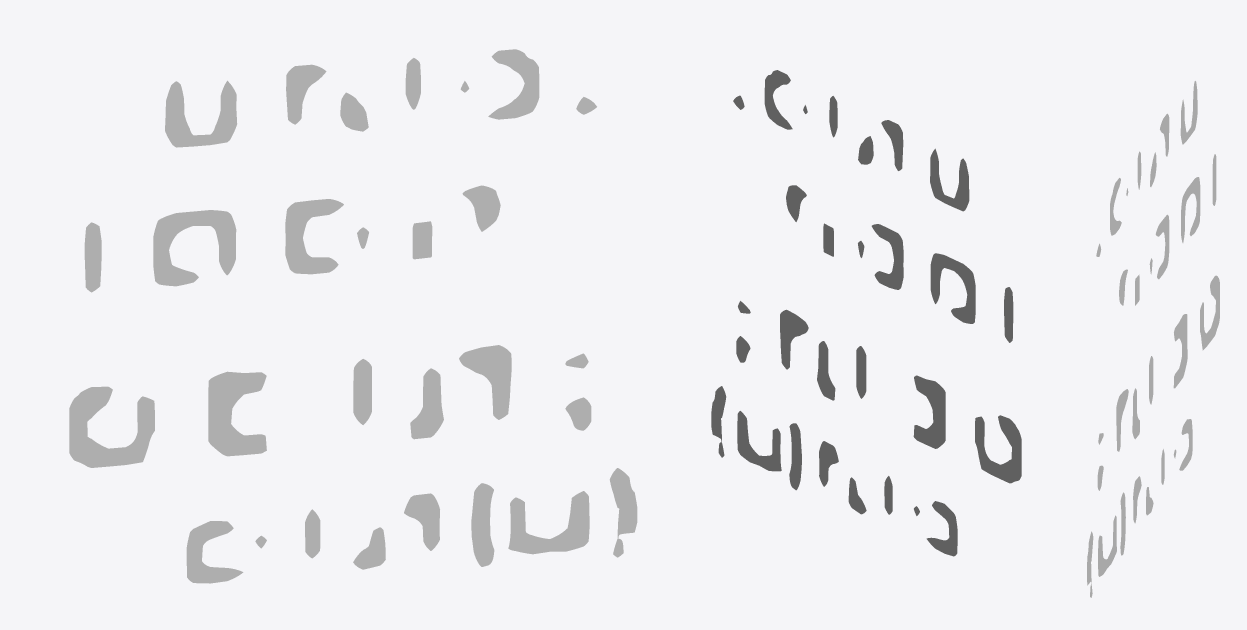
The model's file is paneru_skurin_04.fbx.
3 views of the same model, side by side, from view 1: azimuth 30°, elevation 25°; view 2: azimuth 150°, elevation 25°; view 3: azimuth 270°, elevation 25° (orthographic). The views are drawn at different scales.
Parts seen in each view (by area): view 1: paneru_skurin_04; view 2: paneru_skurin_04; view 3: paneru_skurin_04.
Part boxes in pixels (x1,y1,x2,y2): paneru_skurin_04: (69,49,637,583); paneru_skurin_04: (711,70,1021,556); paneru_skurin_04: (1087,81,1219,597).
Bounding box in the file's own units: 73.22 × 69.23 × 23.81.
1 material, 1 textured.
